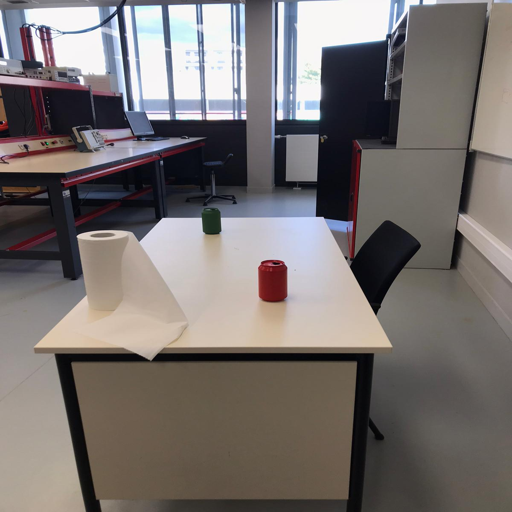Green_Can: (200, 207, 221, 234)
Red_Can: (255, 258, 288, 302)
